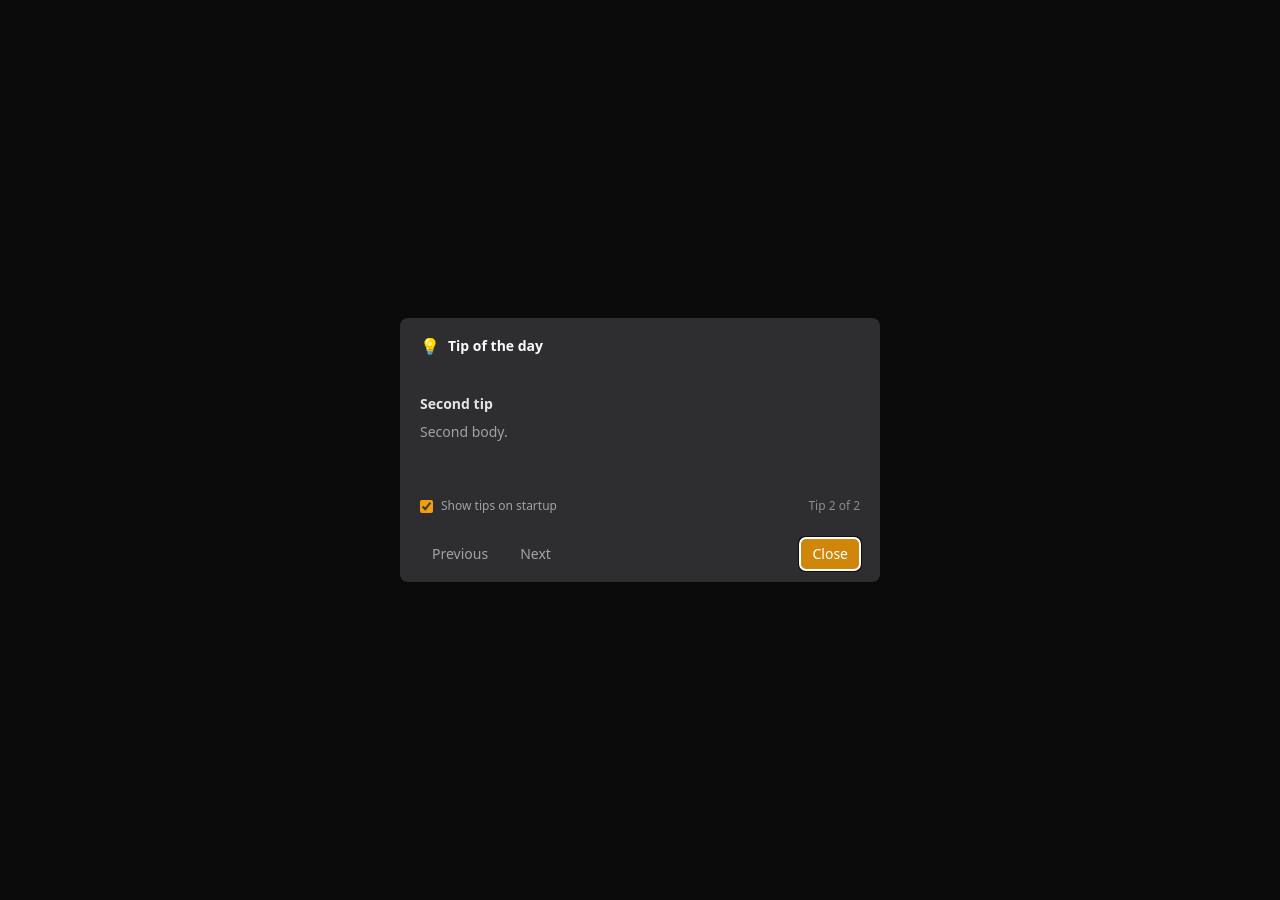
TipsModal (tip of the day) › wraps from the last tip to the first with Next
This screenshot has width=1280, height=900.
Click the button "Next": (535, 554) [508,538,563,570]
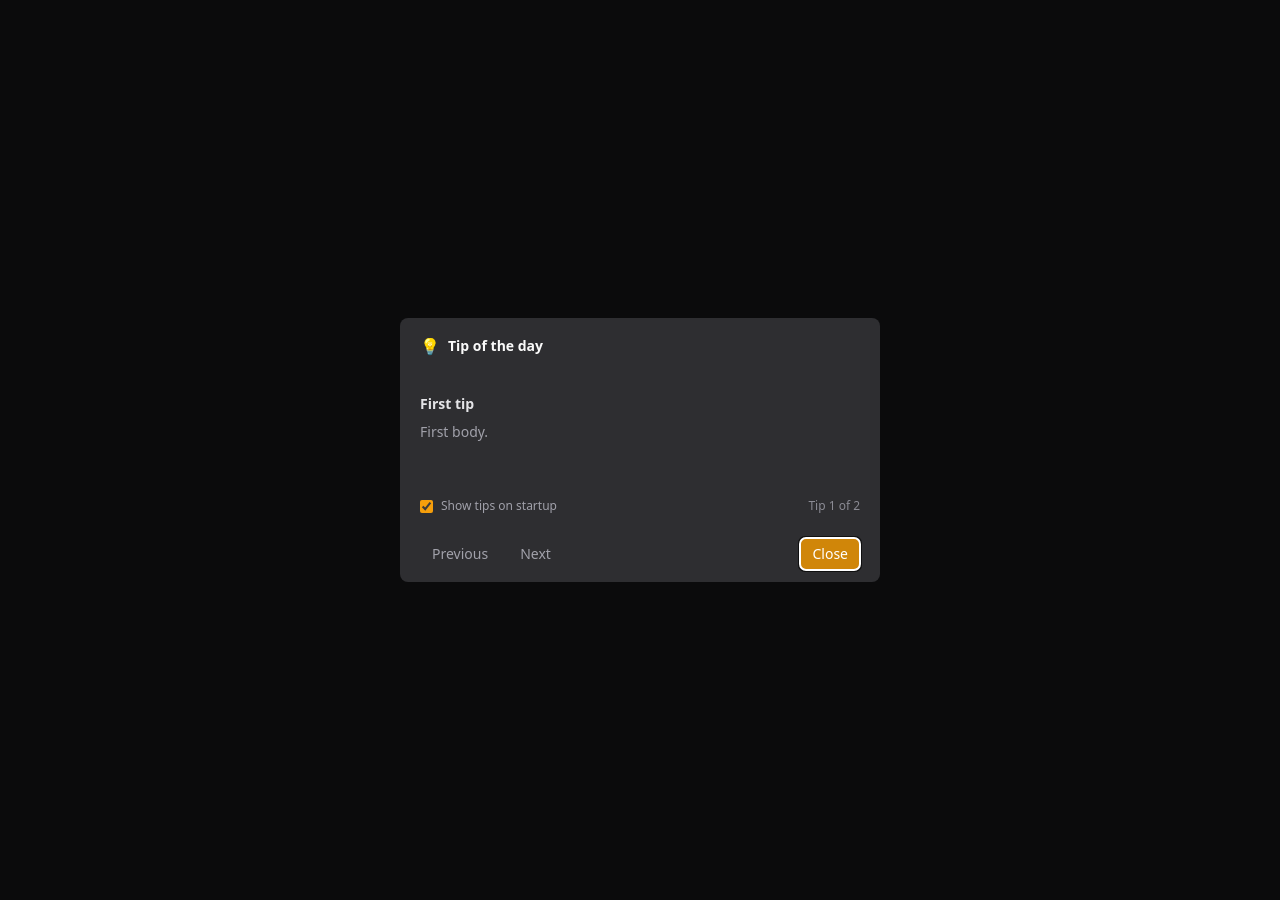
Now the heading "First tip" is shown, box [420,394,474,413]
Now the text "Tip 1 of 2" is shown, box [808,498,860,514]
